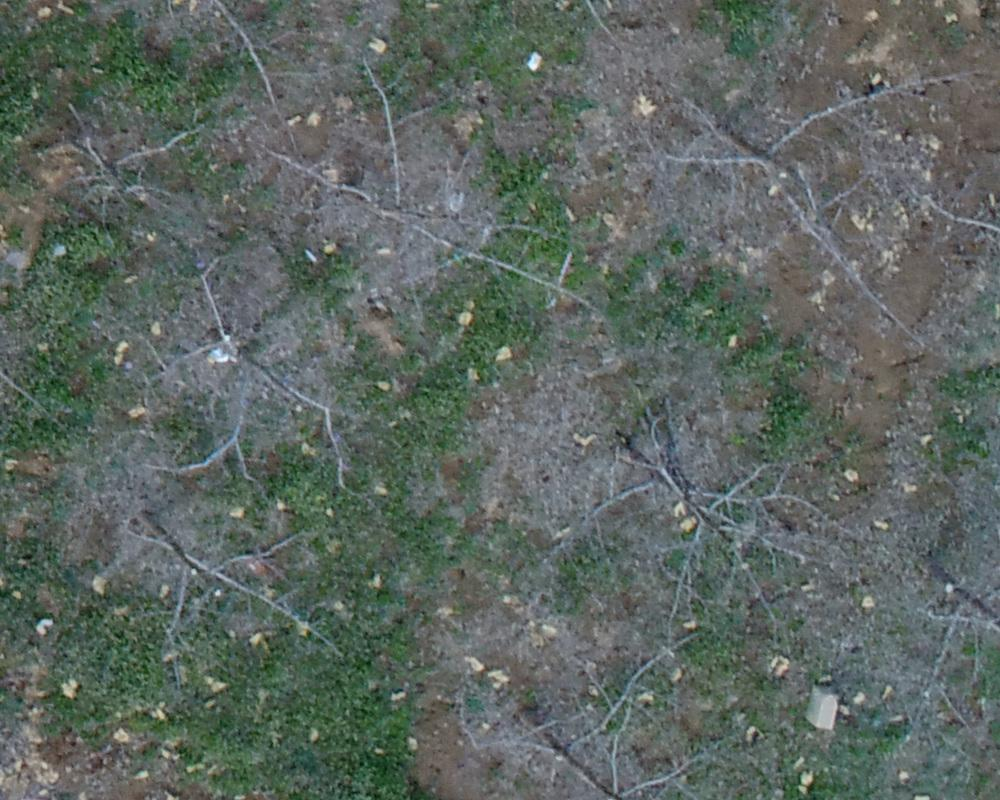apple: (634, 66, 956, 357), (258, 76, 587, 321), (556, 408, 823, 635), (135, 263, 373, 508), (101, 495, 391, 670), (470, 645, 728, 790), (16, 113, 216, 231)
